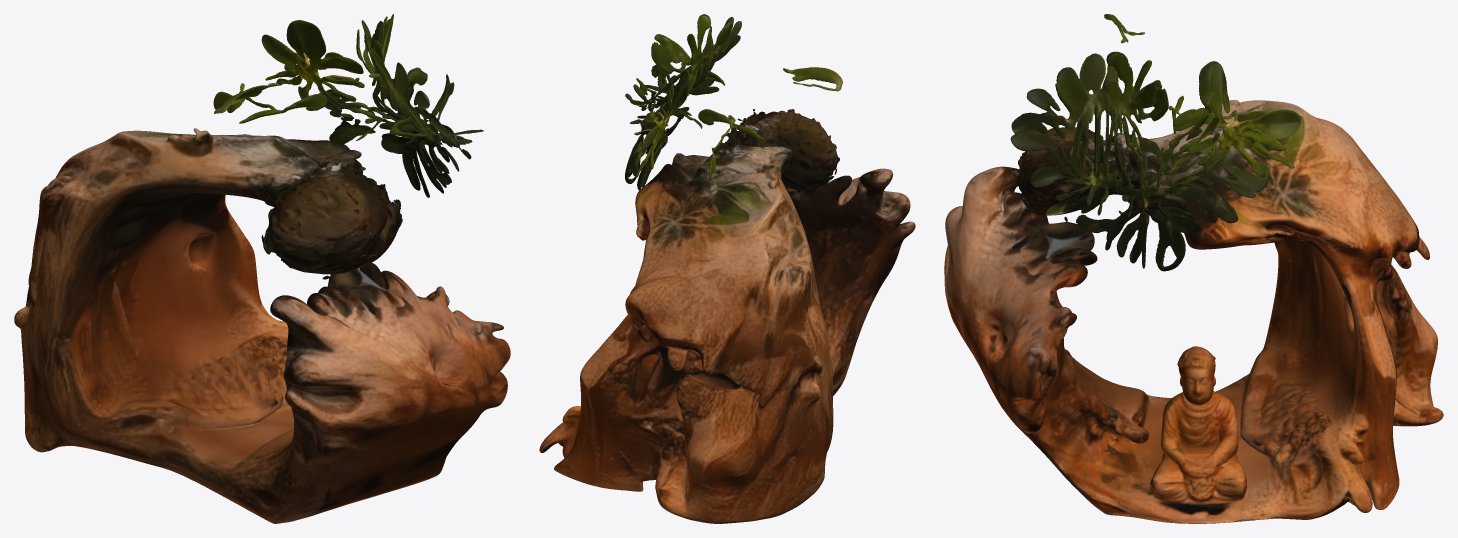
The model's file is buddhaglb.glb.
3 views of the same model, side by side, from view 1: azimuth 30°, elevation 25°; view 2: azimuth 150°, elevation 25°; view 3: azimuth 270°, elevation 25° (orthographic). The views are drawn at different scales.
Parts seen in each view (by area): view 1: tripo_node_1fcd4ca8-bd97-421e-b69a-69a47828e03b; view 2: tripo_node_1fcd4ca8-bd97-421e-b69a-69a47828e03b; view 3: tripo_node_1fcd4ca8-bd97-421e-b69a-69a47828e03b.
Part boxes in pixels (x1,y1,x2,y2): tripo_node_1fcd4ca8-bd97-421e-b69a-69a47828e03b: (14, 14, 510, 523); tripo_node_1fcd4ca8-bd97-421e-b69a-69a47828e03b: (539, 14, 915, 523); tripo_node_1fcd4ca8-bd97-421e-b69a-69a47828e03b: (944, 14, 1443, 523).
Bounding box in the file's own units: 0.7541 × 0.9719 × 1.
1 material, 1 textured.
